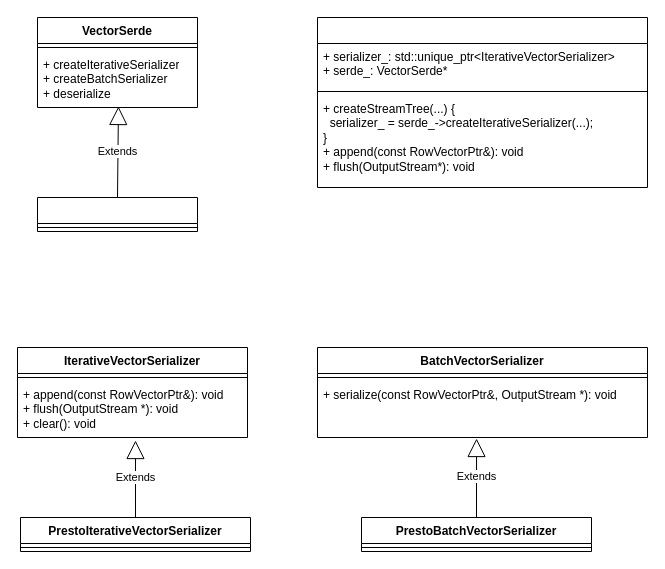
This 665x569 diagram has some shape labels left out. The shapes that lost their labels are listed below. From the top down, each one's box as (x1, y1, x2, y2) in pixels, then its label:
(316, 16, 648, 188): VectorStreamGroup
(36, 196, 198, 232): PrestoVectorSerde
